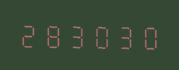eight: (41, 19, 64, 49)
three: (66, 19, 89, 49), (114, 20, 137, 50)
two: (17, 18, 40, 49)
zero: (138, 20, 161, 51), (90, 20, 113, 50)
